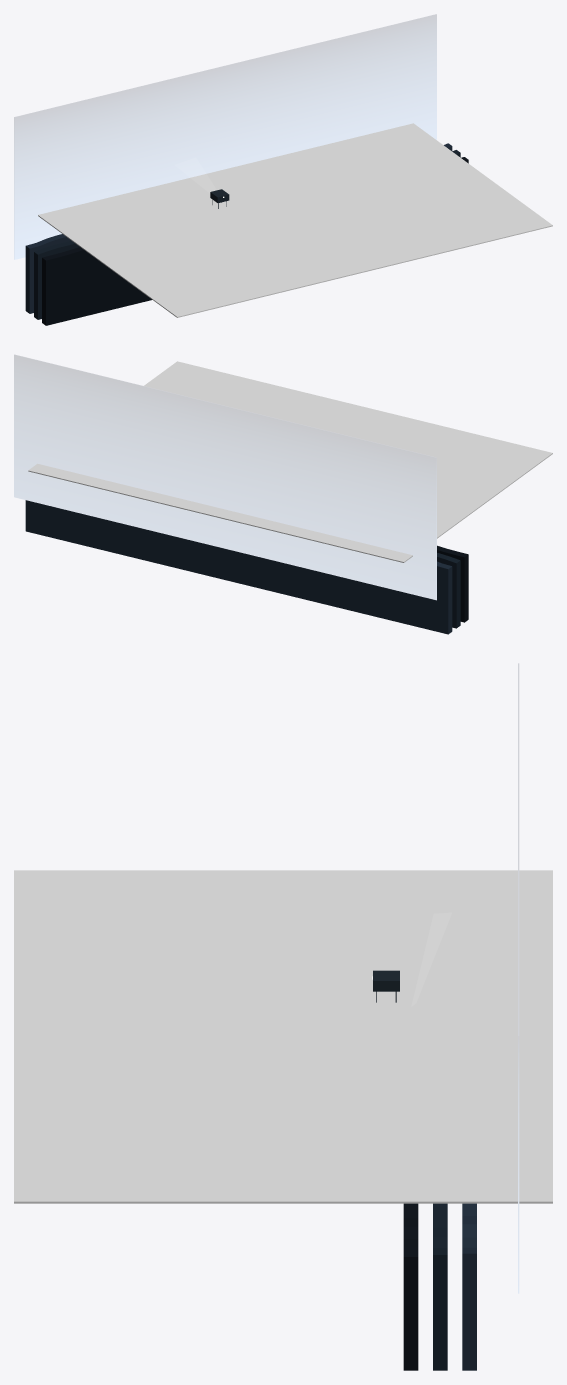
The model's file is searchlight.glb.
3 renders of one model, top to bottom at view 1: azimuth 30°, elevation 25°; view 2: azimuth 150°, elevation 25°; view 3: azimuth 270°, elevation 25°, orthographic. The views are drawn at different scales.
Visible parts, largest first — view 1: Ground contact / transparent shadow receiver.015, Sky gradient / editable material.015, World / terrain and architecture.013; view 2: Sky gradient / editable material.015, Ground contact / transparent shadow receiver.015, World / terrain and architecture.013; view 3: Ground contact / transparent shadow receiver.015, World / terrain and architecture.013, Sky gradient / editable material.015.
Boxes of the visible parts, bbox=[...] form: Ground contact / transparent shadow receiver.015: bbox=[38, 123, 552, 317]; Sky gradient / editable material.015: bbox=[14, 14, 436, 259]; World / terrain and architecture.013: bbox=[25, 143, 468, 325]; Sky gradient / editable material.015: bbox=[14, 354, 436, 600]; Ground contact / transparent shadow receiver.015: bbox=[28, 361, 552, 562]; World / terrain and architecture.013: bbox=[25, 500, 468, 634]; Ground contact / transparent shadow receiver.015: bbox=[14, 870, 552, 1203]; World / terrain and architecture.013: bbox=[373, 970, 476, 1370]; Sky gradient / editable material.015: bbox=[518, 663, 519, 1293].
Size of the model in its own units: 180 by 75.4 by 110.
